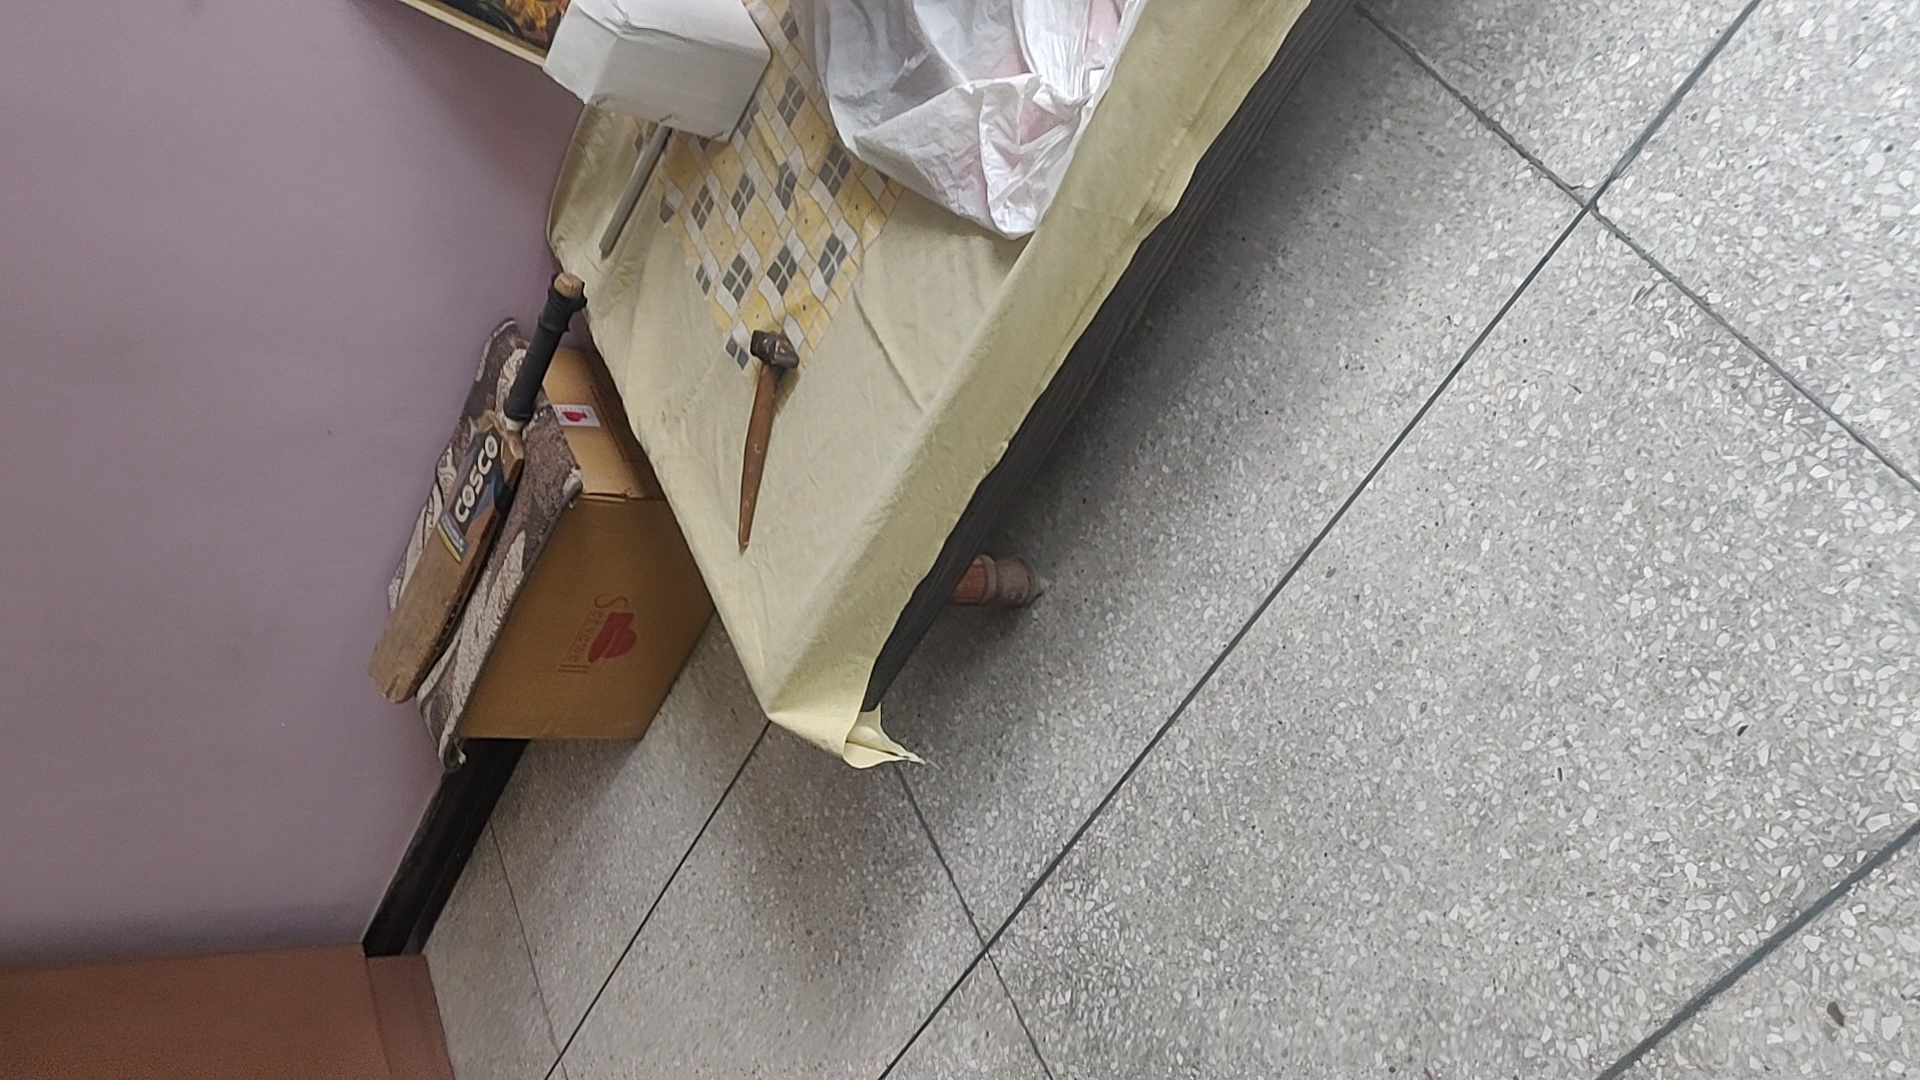hammer: (727, 328, 798, 549)
